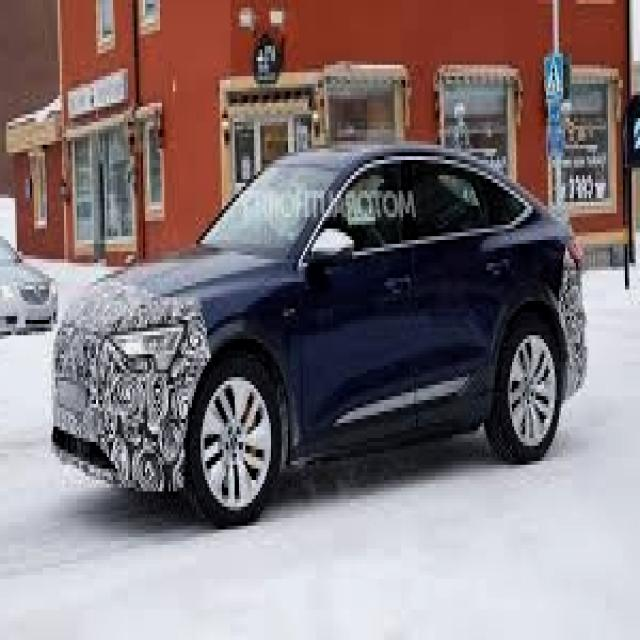blue: (20, 150, 602, 523)
